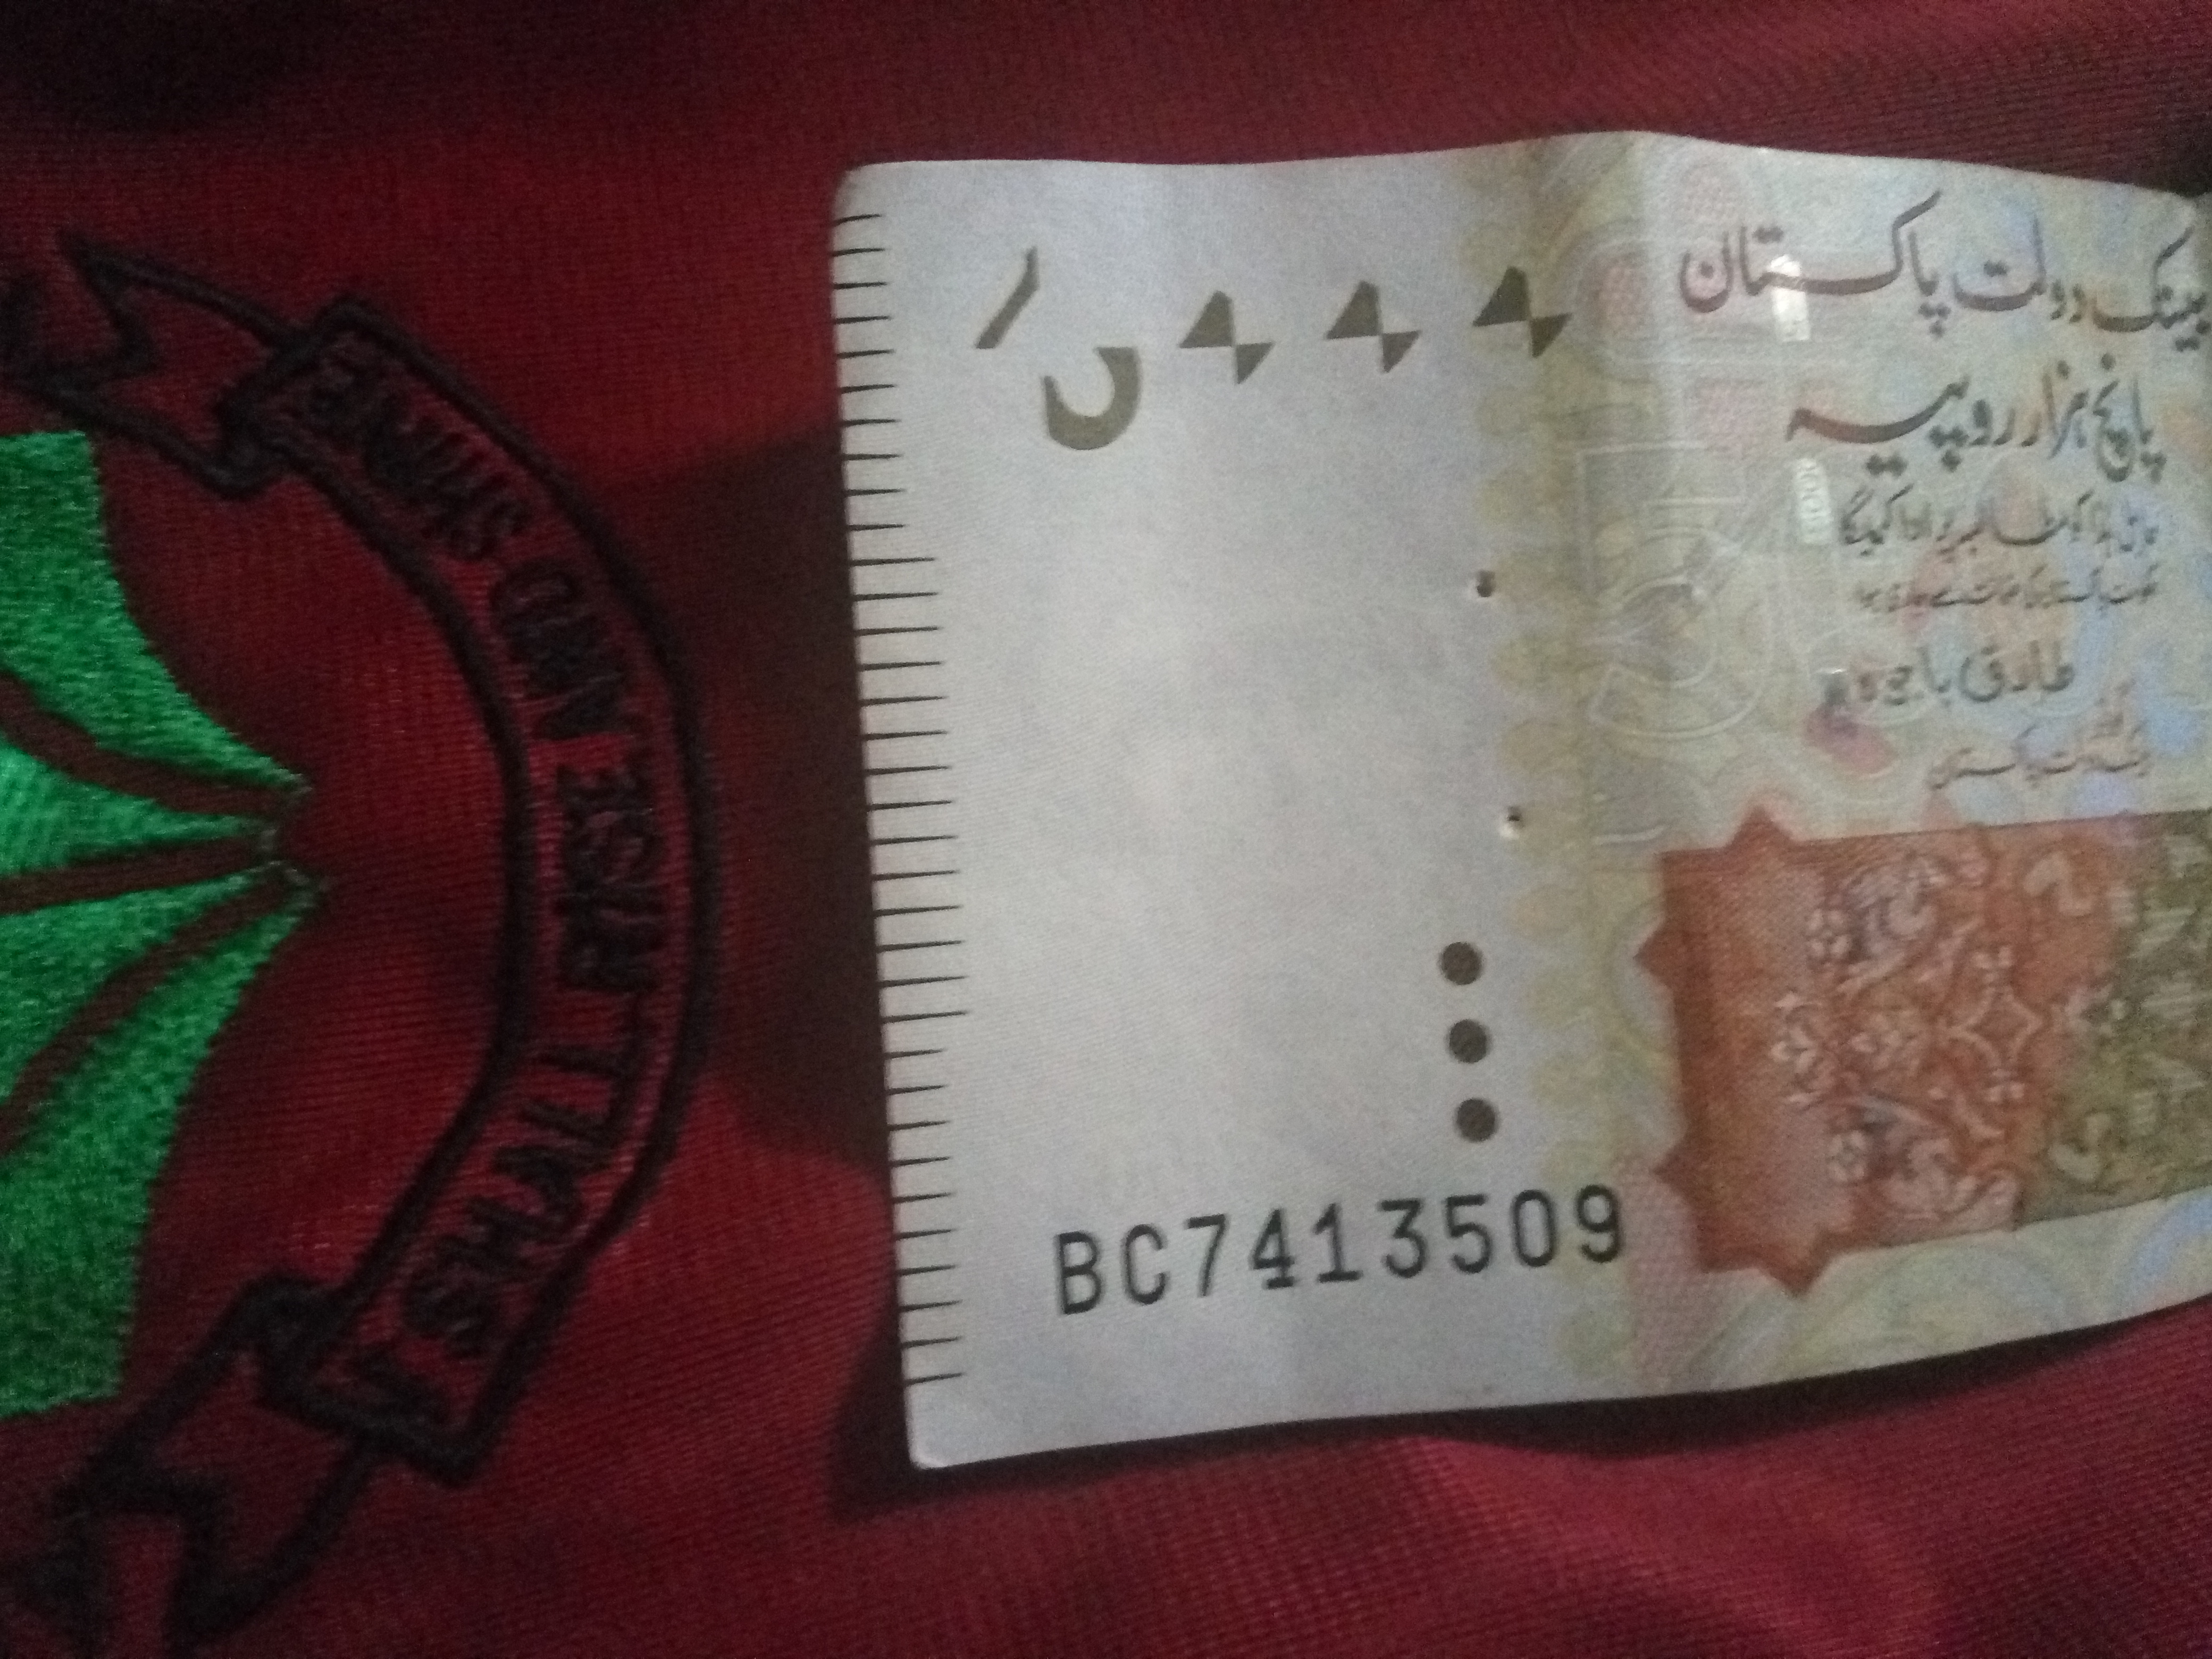5000 rupee: (824, 134, 2212, 1443), (1367, 889, 1615, 1157)
